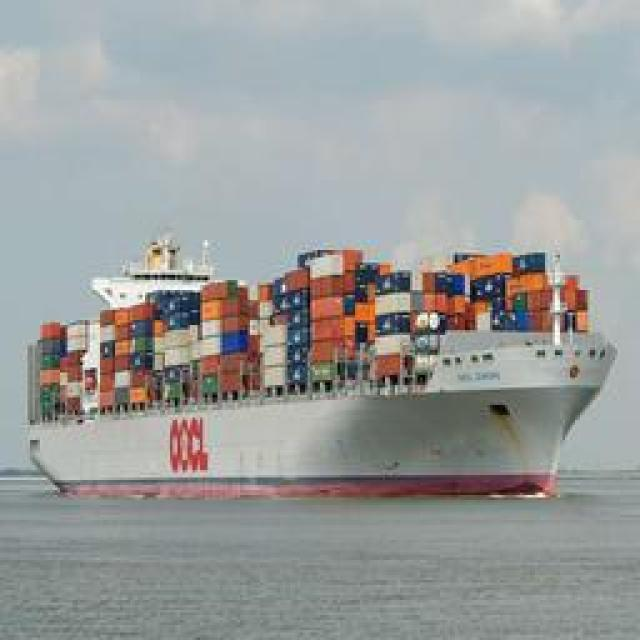CIV_Ship: (6, 224, 612, 498)
